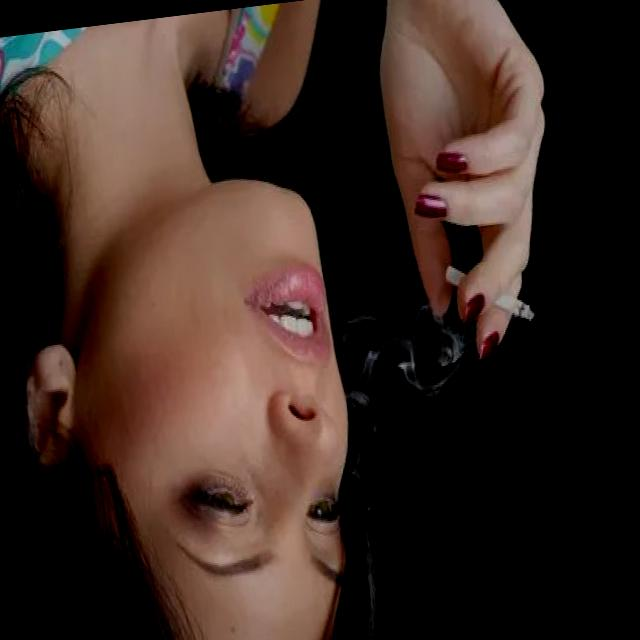smoke: (443, 250, 536, 332)
